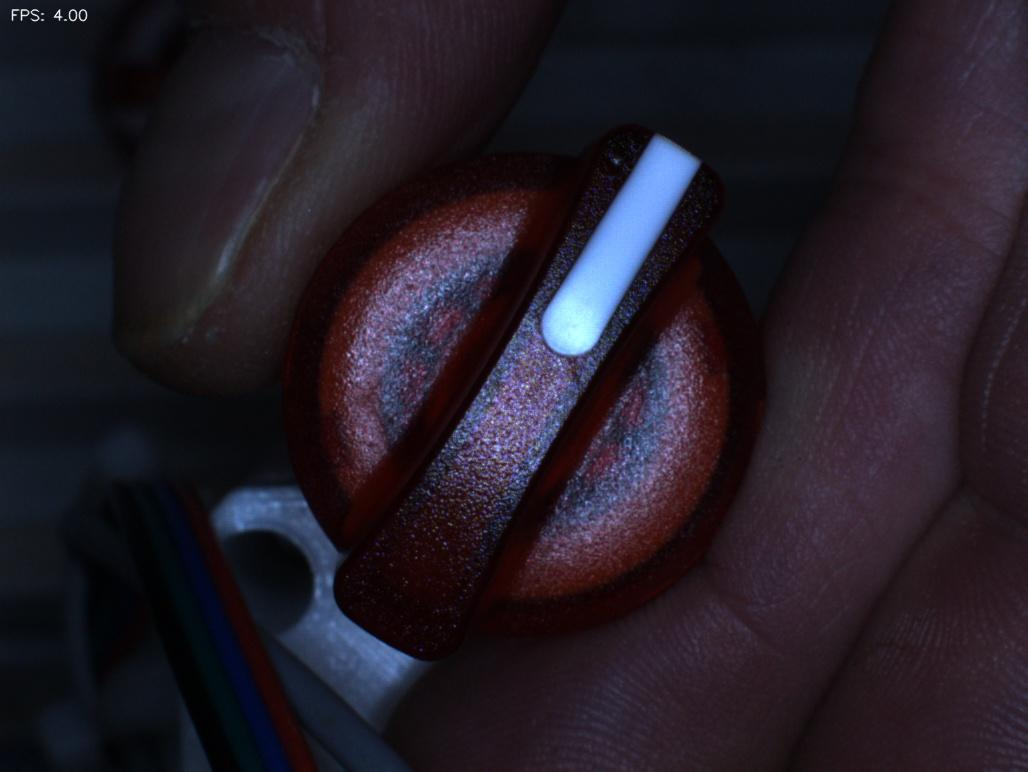Choc: (574, 103, 660, 196)
